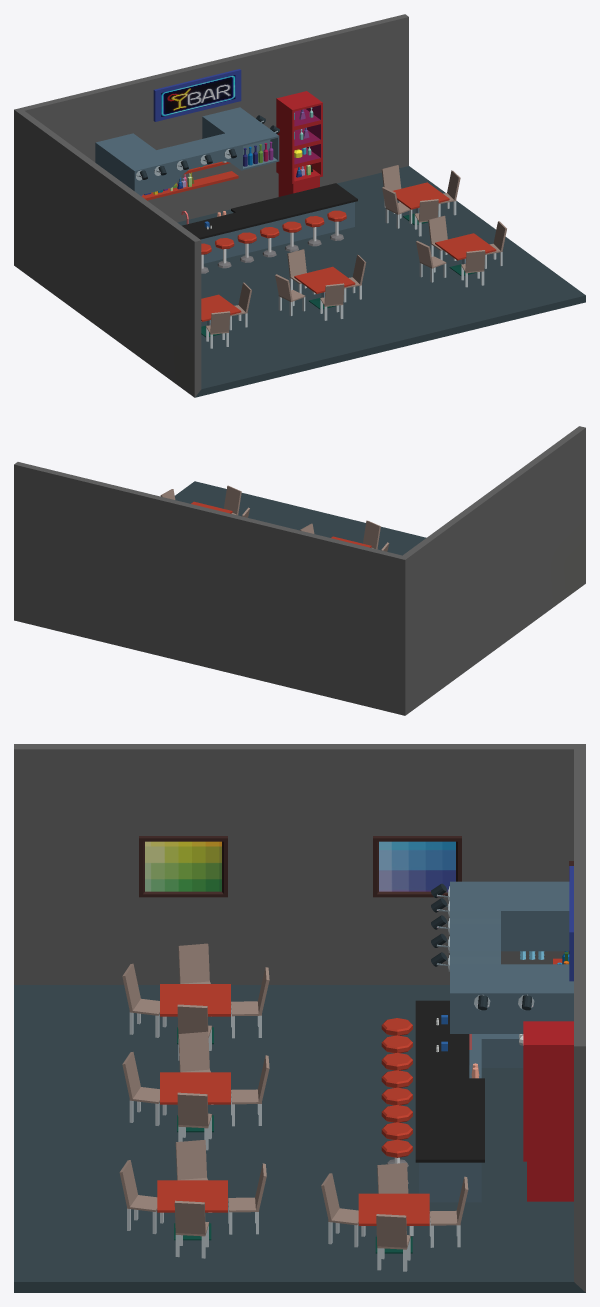
The model's file is map 2 - Bar (1).fbx.
3 views of the same model, one above another, from view 1: azimuth 30°, elevation 25°; view 2: azimuth 150°, elevation 25°; view 3: azimuth 270°, elevation 25° (orthographic). The views are drawn at different scales.
Parts seen in each view (by area): view 1: polySurface177, polySurface31, polySurface121, polySurface117, polySurface187, polySurface94, polySurface169, polySurface63, polySurface51, polySurface88, polySurface52, polySurface32 (+7 smaller); view 2: polySurface177, polySurface32, polySurface52; view 3: polySurface177, polySurface31, polySurface121, polySurface117, polySurface151, polySurface76, polySurface63, polySurface94, polySurface169, polySurface51, polySurface70, polySurface184 (+14 smaller).
Part boxes in pixels (<box>): polySurface177: <box>14,14,585,397</box>; polySurface31: <box>95,107,279,195</box>; polySurface121: <box>182,183,357,263</box>; polySurface117: <box>276,91,322,196</box>; polySurface187: <box>153,69,241,121</box>; polySurface94: <box>435,233,496,275</box>; polySurface169: <box>294,266,355,309</box>; polySurface63: <box>393,182,449,224</box>; polySurface51: <box>201,294,241,337</box>; polySurface88: <box>141,171,238,200</box>; polySurface52: <box>320,283,344,320</box>; polySurface32: <box>461,250,485,287</box>; polySurface177: <box>14,426,585,715</box>; polySurface32: <box>223,485,241,515</box>; polySurface52: <box>363,520,380,549</box>; polySurface177: <box>14,744,585,1292</box>; polySurface31: <box>450,881,573,1033</box>; polySurface121: <box>415,1000,523,1202</box>; polySurface117: <box>523,1021,573,1201</box>; polySurface151: <box>139,836,227,897</box>; polySurface76: <box>373,836,461,897</box>; polySurface63: <box>358,1193,429,1253</box>; polySurface94: <box>157,1180,227,1240</box>; polySurface169: <box>160,1072,230,1132</box>; polySurface51: <box>160,984,230,1044</box>; polySurface70: <box>376,1214,410,1271</box>; polySurface184: <box>174,1200,208,1258</box>.
Size of the model in its own units: 31.24 by 11.9 by 25.
Materials: 1 (1 with a texture image).
